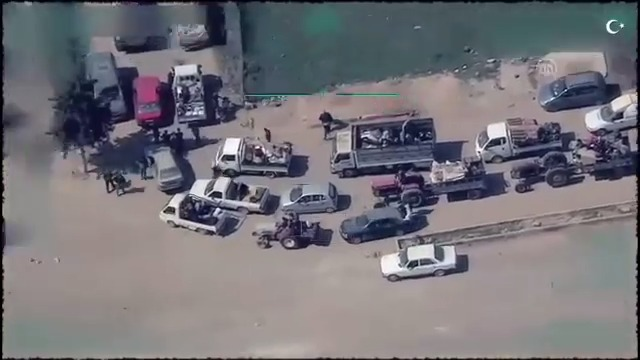arac: (504, 129, 639, 196), (326, 111, 446, 178), (368, 152, 493, 207), (474, 113, 573, 162), (156, 184, 235, 239), (378, 238, 459, 287), (213, 135, 311, 175), (251, 211, 332, 257), (534, 65, 609, 114), (335, 205, 421, 244), (189, 172, 273, 211), (81, 48, 125, 121), (279, 178, 344, 216), (150, 136, 191, 196), (578, 98, 640, 132), (132, 64, 165, 126), (174, 61, 205, 123)
insan: (313, 103, 335, 138), (259, 122, 275, 140)
